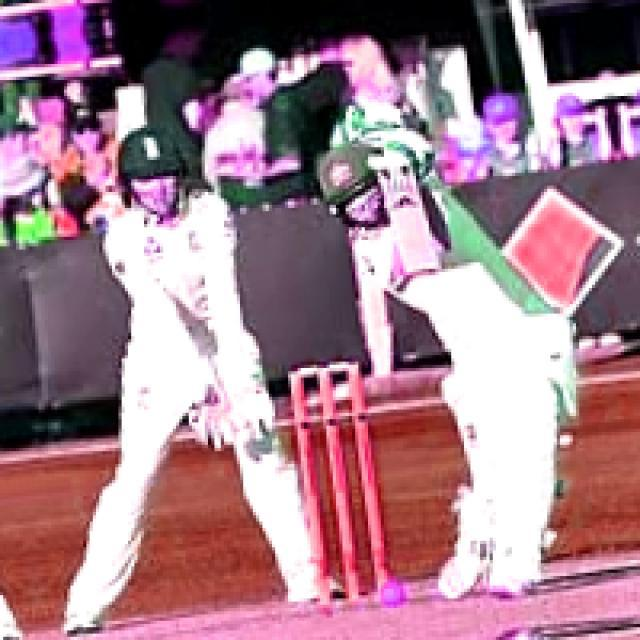bat: (350, 148, 464, 298)
toe: (404, 259, 445, 282)
